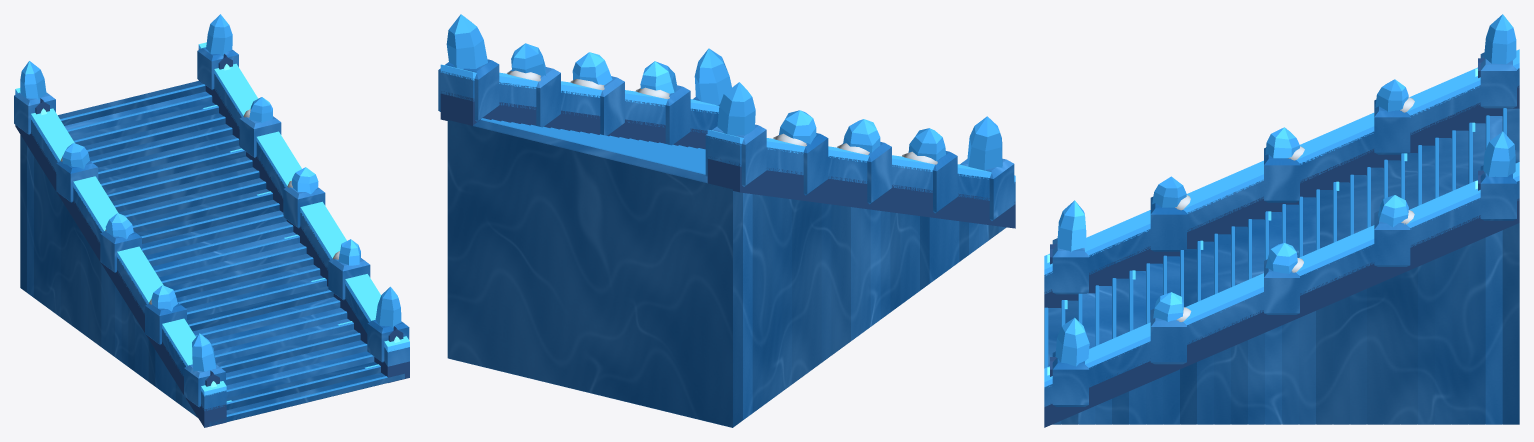
The model's file is snow-stairs.glb.
The picture shows the model from 3 angles, left to right: view 1: azimuth 30°, elevation 25°; view 2: azimuth 150°, elevation 25°; view 3: azimuth 270°, elevation 25°; orthographic projection. The views are drawn at different scales.
Visible parts, largest first — view 1: Frozen Stair - Glacier_Ice, Frozen Stair - Ice_Crystal, Frozen Stair - Deep_Ice; view 2: Frozen Stair - Glacier_Ice, Frozen Stair - Ice_Crystal, Frozen Stair - Deep_Ice, Frozen Stair - Snow; view 3: Frozen Stair - Glacier_Ice, Frozen Stair - Ice_Crystal, Frozen Stair - Deep_Ice, Frozen Stair - Snow.
Part boxes in pixels (<box>): Frozen Stair - Glacier_Ice: <box>14,47,409,425</box>; Frozen Stair - Ice_Crystal: <box>15,14,409,416</box>; Frozen Stair - Deep_Ice: <box>15,54,409,427</box>; Frozen Stair - Glacier_Ice: <box>438,59,1015,427</box>; Frozen Stair - Ice_Crystal: <box>440,14,1015,182</box>; Frozen Stair - Deep_Ice: <box>440,91,1015,228</box>; Frozen Stair - Snow: <box>507,70,937,164</box>; Frozen Stair - Glacier_Ice: <box>1044,52,1519,424</box>; Frozen Stair - Ice_Crystal: <box>1044,14,1519,387</box>; Frozen Stair - Deep_Ice: <box>1044,58,1519,427</box>; Frozen Stair - Snow: <box>1175,97,1414,322</box>.
Bounding box in the file's own units: 3.22 × 3.39 × 5.
5 materials, 1 textured.
